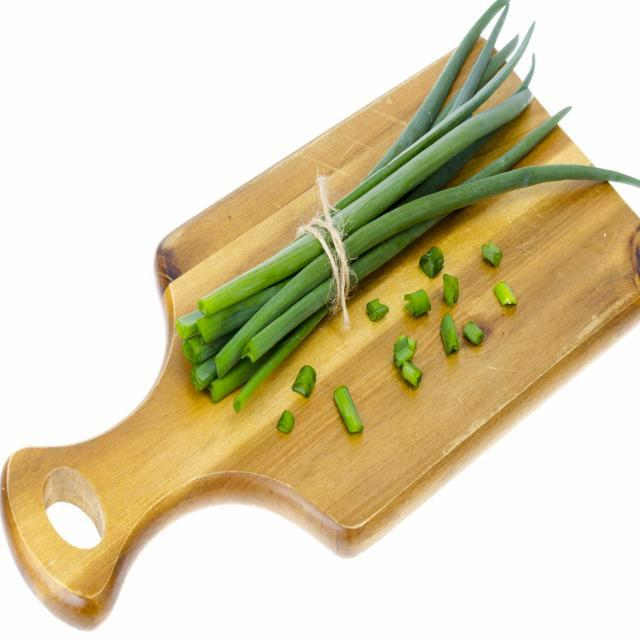green_onion: (176, 0, 640, 411), (392, 335, 422, 388), (334, 386, 364, 434), (440, 314, 460, 354), (404, 290, 431, 317), (292, 368, 316, 397), (462, 320, 486, 346), (420, 249, 442, 277), (494, 281, 516, 306), (442, 274, 459, 306), (482, 242, 500, 266), (368, 300, 389, 319), (278, 410, 295, 432)
